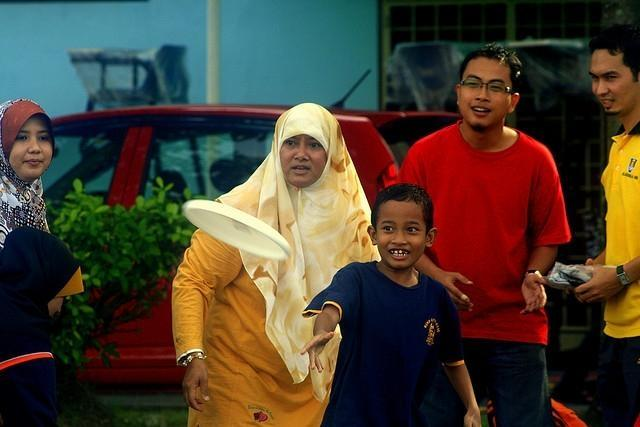car: (40, 107, 400, 391), (328, 67, 461, 166), (512, 39, 591, 93)
